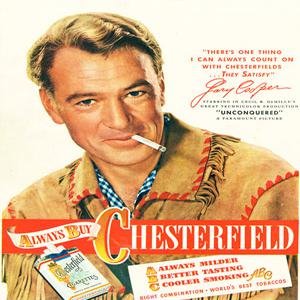cigarette: (131, 135, 170, 155)
